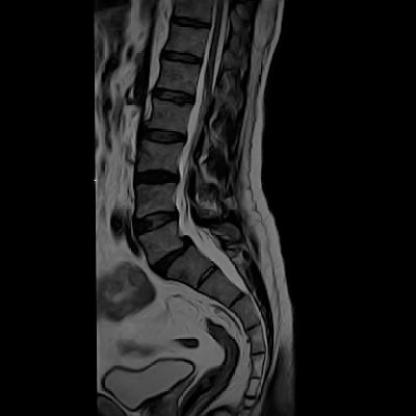Disc Bulgerotation: (163, 233, 187, 281), (137, 209, 178, 235), (134, 166, 177, 190)
